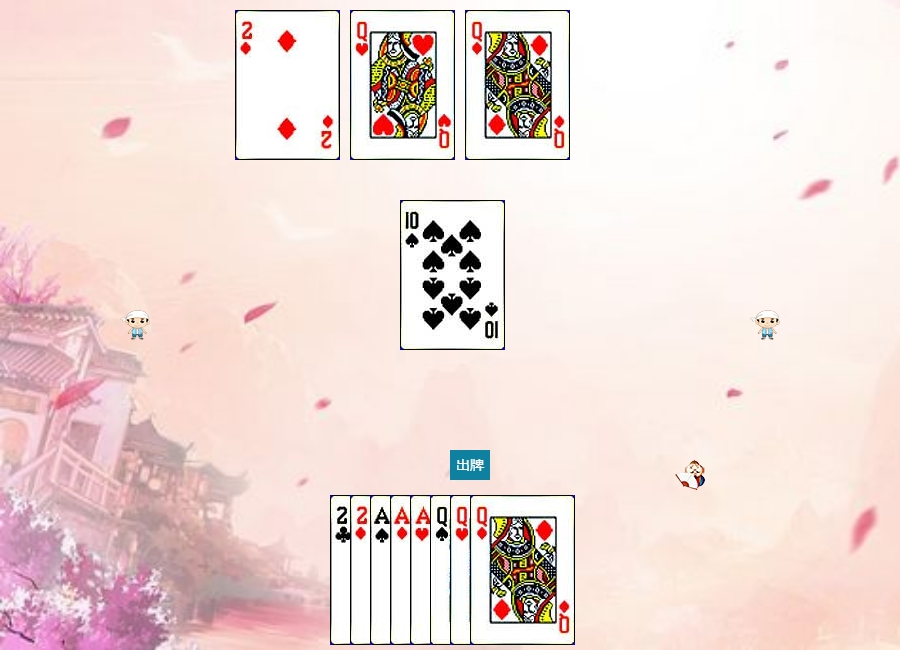10~4: (400, 200, 505, 350)
12~1: (465, 10, 570, 160), (470, 495, 575, 645)
12~3: (350, 10, 455, 160), (450, 495, 555, 645)
12~4: (430, 495, 535, 645)
14~1: (390, 495, 495, 645)
14~3: (410, 495, 515, 645)
14~4: (370, 495, 475, 645)
15~1: (235, 10, 340, 160), (350, 495, 455, 645)
15~2: (330, 495, 435, 645)
